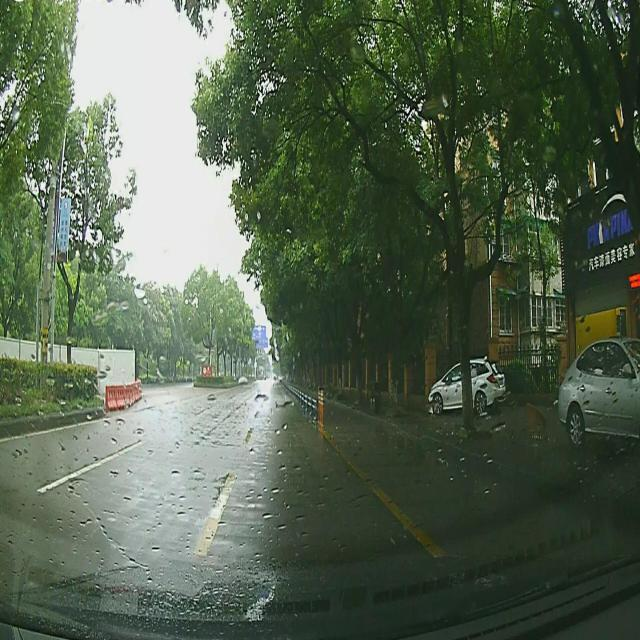car: (558, 331, 640, 444), (430, 361, 508, 412)
